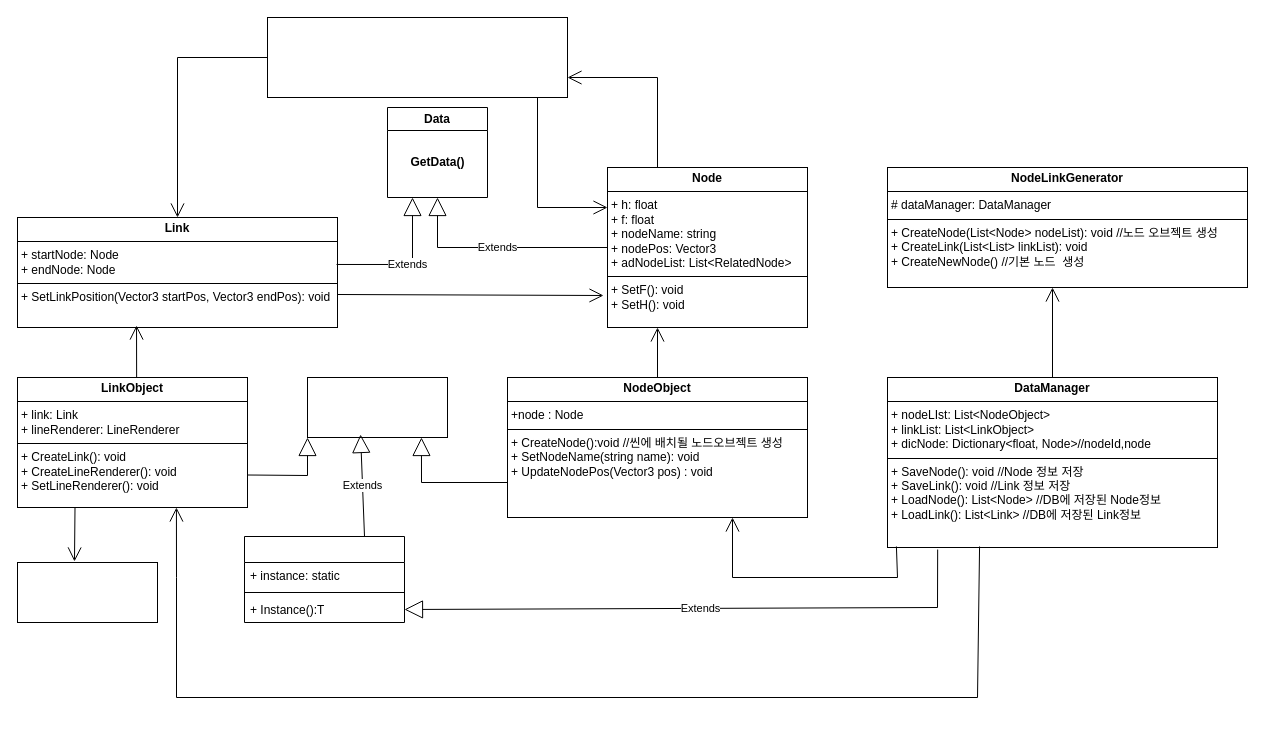
Image size: 1265x729. Some labels were removed from this diagram. The shapes that lost their labels are listed below. From the top down, each one's box as (x1, y1, x2, y2) in pixels, then its label:
(266, 16, 568, 98): RelatedNode + adNode: Node + link: Link + g: float //인접노드인(adNode)까지의 이동비용(거리)
(306, 376, 448, 438): MonoBehaviou
(16, 562, 158, 622): LineRenderer
(244, 536, 404, 622): MonoSingleton
